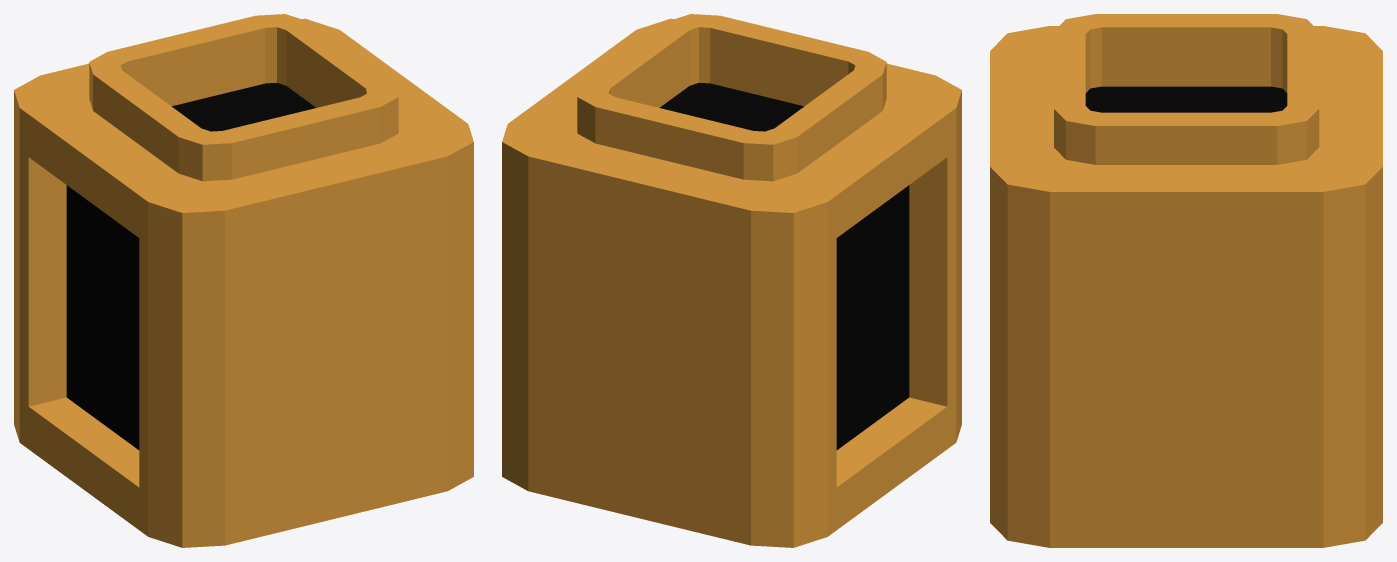
The model's file is Deshefrator.fbx.
3 renders of one model, left to right at view 1: azimuth 30°, elevation 25°; view 2: azimuth 150°, elevation 25°; view 3: azimuth 270°, elevation 25°, orthographic. The views are drawn at different scales.
Visible parts, largest first — view 1: Cube.005; view 2: Cube.005; view 3: Cube.005.
Boxes of the visible parts, box(x1,y1,x2,y2) form: Cube.005: box(14, 14, 473, 547); Cube.005: box(502, 14, 961, 547); Cube.005: box(990, 14, 1382, 547).
Size of the model in its own units: 200 by 222 by 200.
